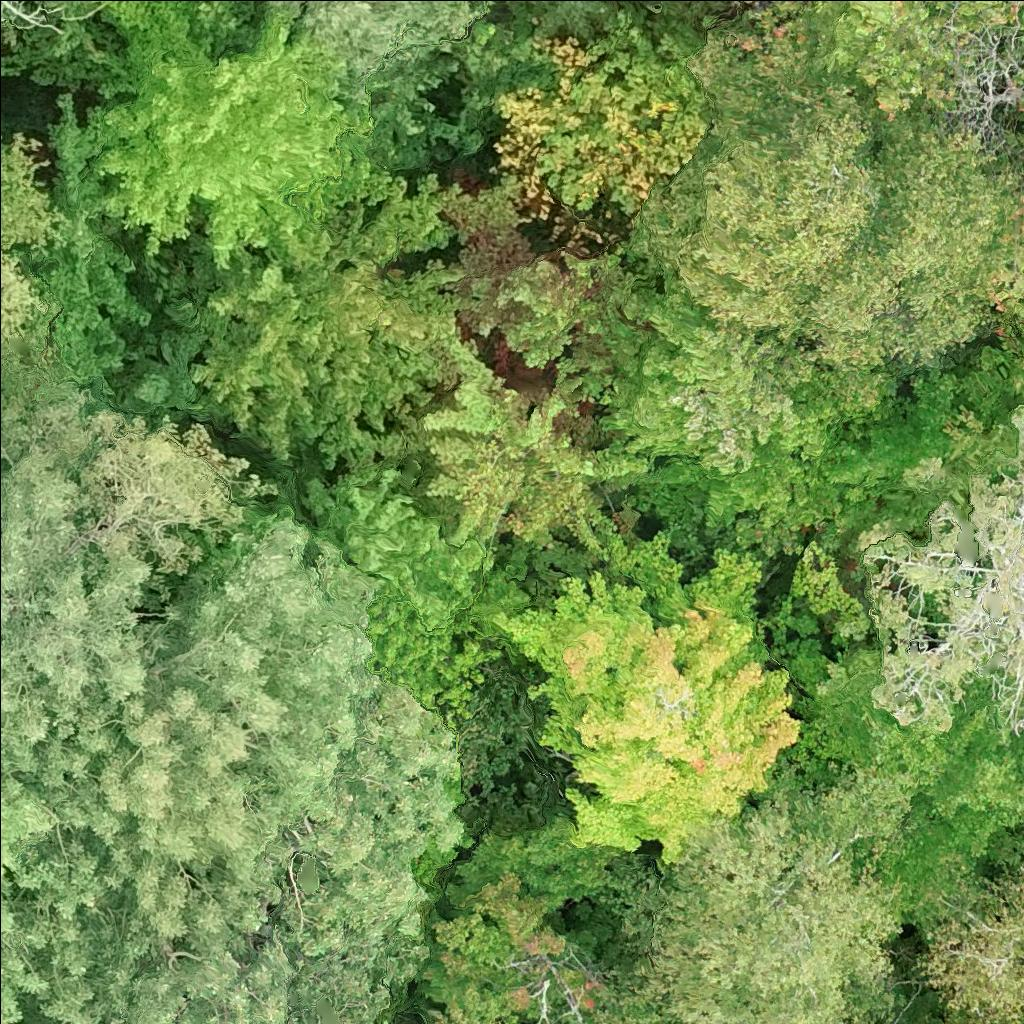crown: (4, 536, 455, 954), (506, 529, 801, 858), (0, 396, 249, 769), (87, 0, 403, 266), (589, 289, 895, 553), (0, 842, 431, 1023), (771, 635, 1023, 934), (192, 176, 460, 455), (648, 773, 907, 1023), (633, 33, 864, 296), (309, 466, 540, 718), (489, 5, 712, 245), (807, 112, 1014, 365), (432, 170, 636, 417), (725, 0, 1010, 168), (385, 821, 617, 1023), (678, 114, 877, 349), (426, 341, 611, 560), (871, 470, 1023, 735), (261, 0, 486, 107), (925, 868, 1023, 1023), (0, 768, 51, 1023), (0, 140, 60, 342), (977, 134, 1023, 316), (539, 0, 608, 39), (1005, 0, 1023, 42), (0, 0, 21, 35)
